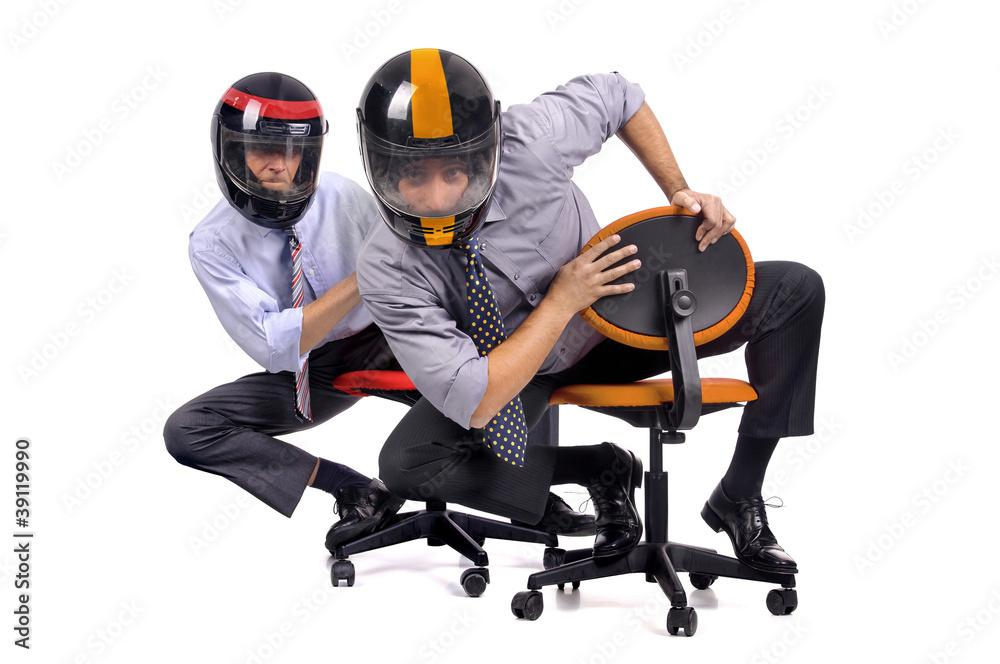helmet: (354, 45, 507, 251), (209, 70, 330, 231)
